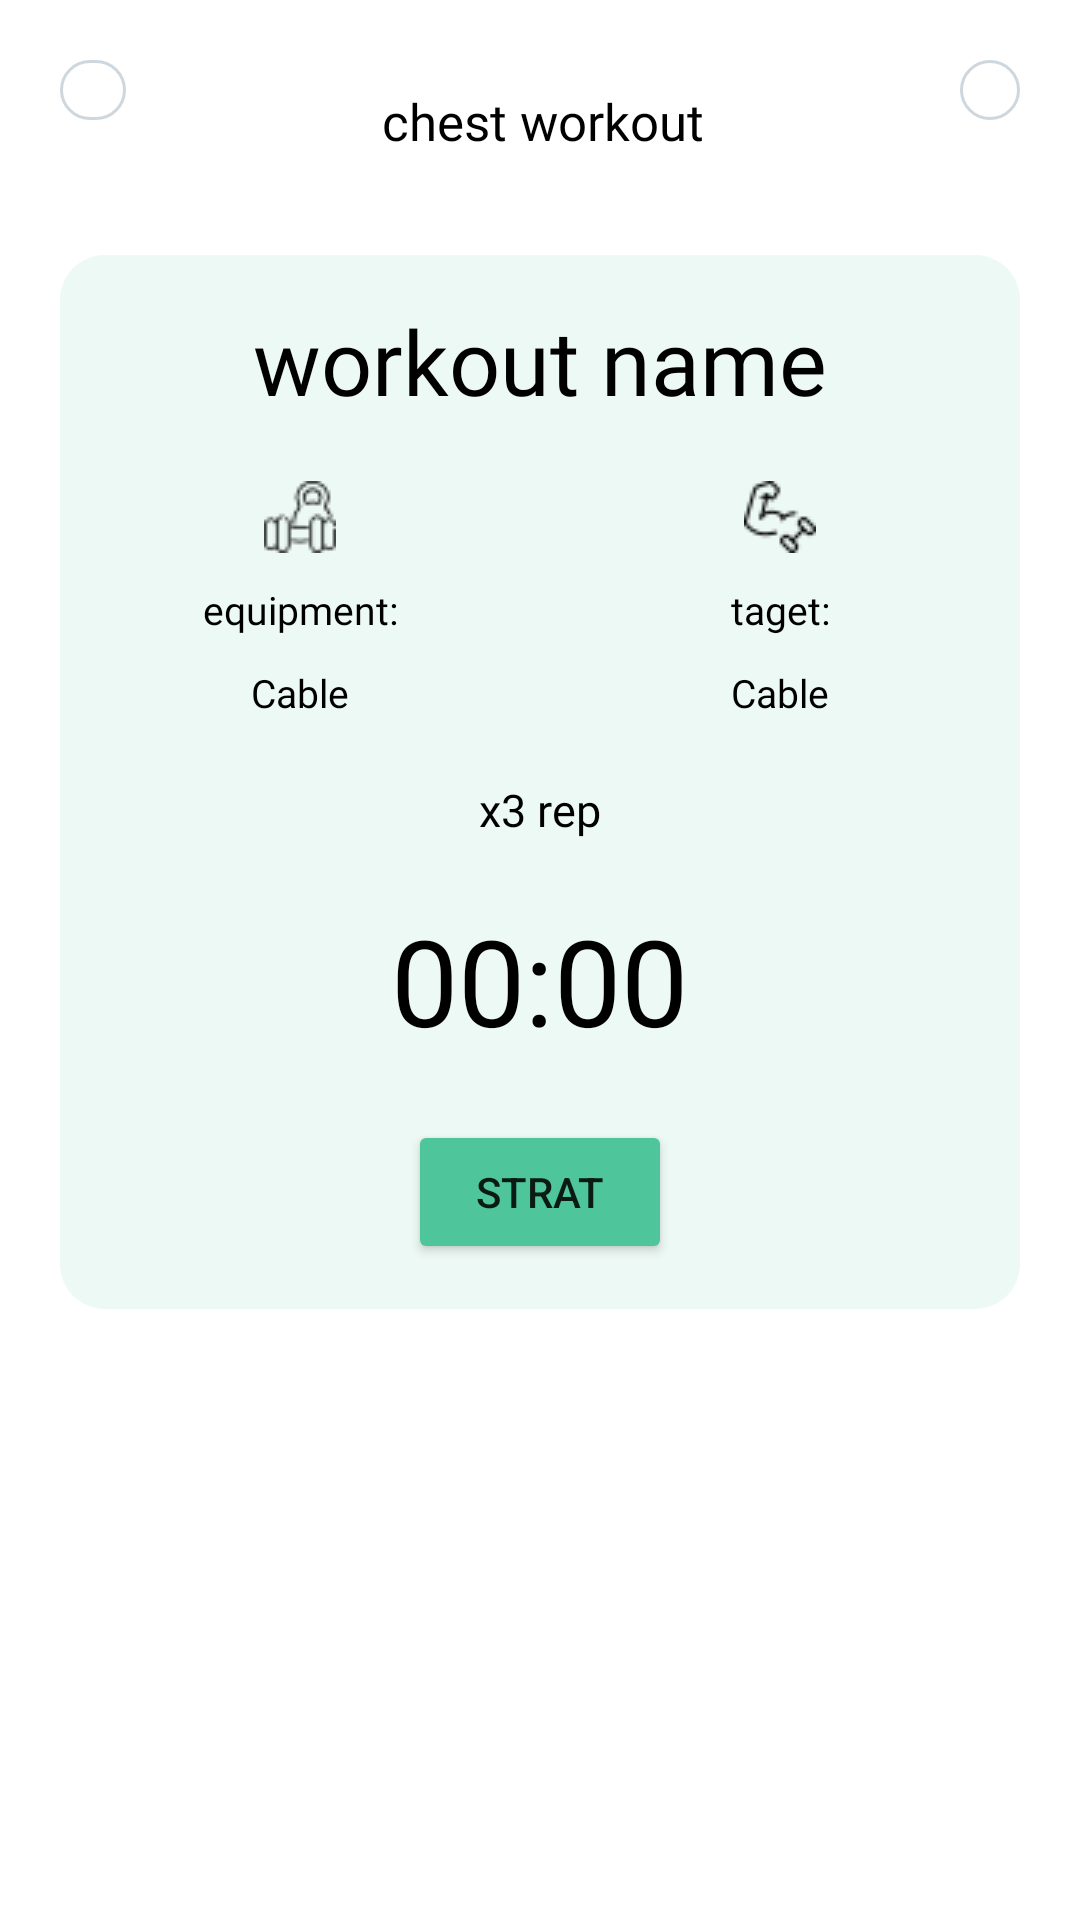

Screen size 1080w x 1920h. Icon name, then its center in pixels as (x=x, y=y):
dumbbell: (x=300, y=517)
